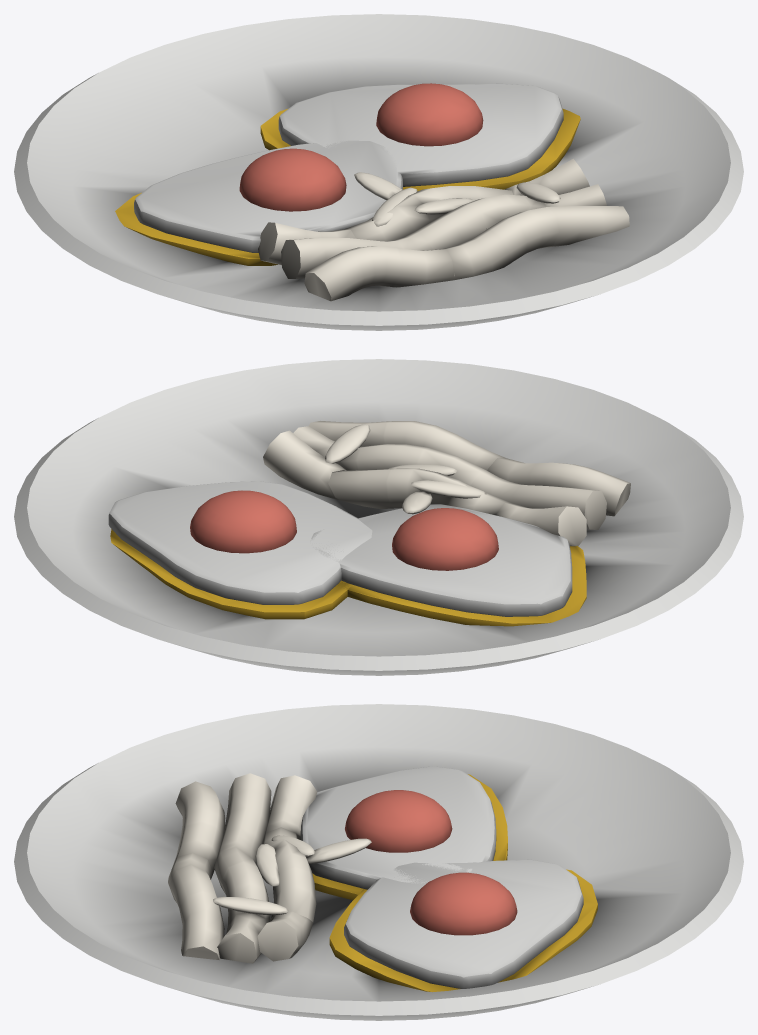
Rendered from meal_egg.glb.
The picture shows the model from 3 angles, top to bottom: view 1: azimuth 30°, elevation 25°; view 2: azimuth 150°, elevation 25°; view 3: azimuth 270°, elevation 25°; orthographic projection.
Visible parts, largest first — view 1: PART; view 2: PART; view 3: PART.
Boxes of the visible parts, box(x1,y1,x2,y2) form: PART: box(14, 14, 743, 330); PART: box(14, 359, 743, 675); PART: box(14, 704, 743, 1020).
Bounding box in the file's own units: 0.2957 × 0.0359 × 0.2957.
